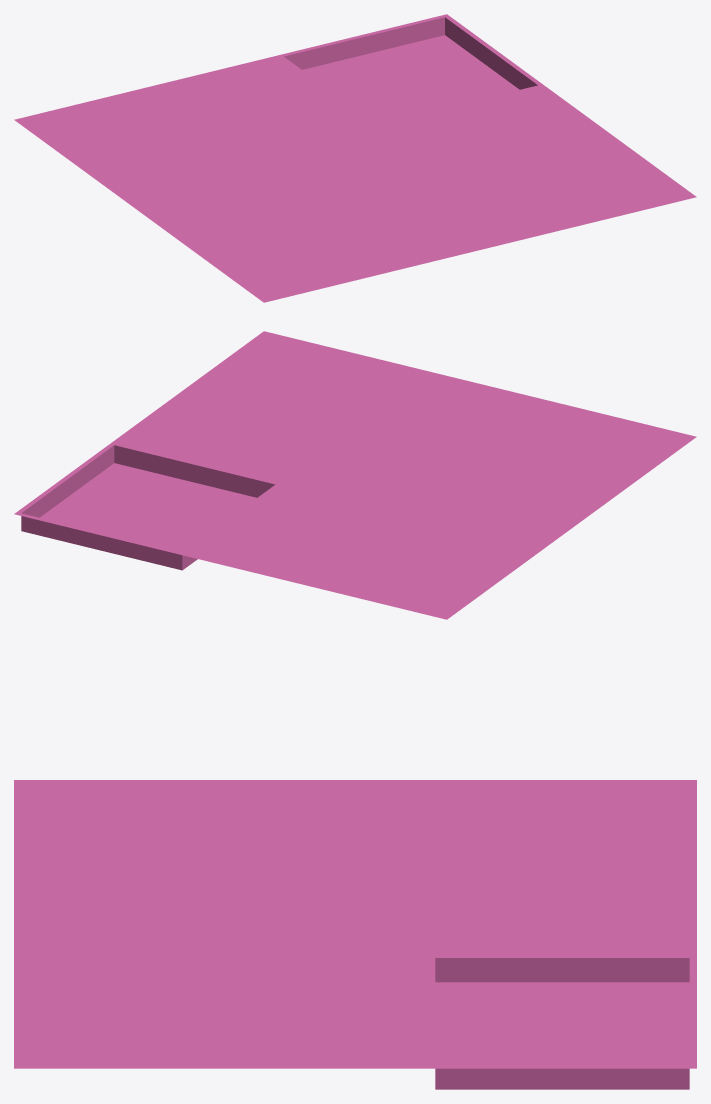
File: suelo.fbx
3 views of the same model, one above another, from view 1: azimuth 30°, elevation 25°; view 2: azimuth 150°, elevation 25°; view 3: azimuth 270°, elevation 25° (orthographic). The views are drawn at different scales.
Visible parts, largest first — view 1: Model; view 2: Model; view 3: Model.
Part boxes in pixels (x1,y1,x2,y2): Model: (14,14,696,302); Model: (14,331,696,619); Model: (14,780,696,1089).
Size of the model in its own units: 940 by 237 by 940.
